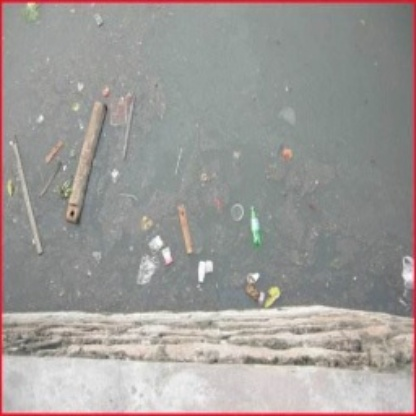branch: (66, 101, 112, 230)
